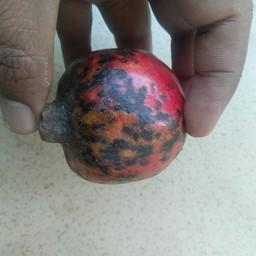Bad_pomegranate: (24, 43, 193, 190)
